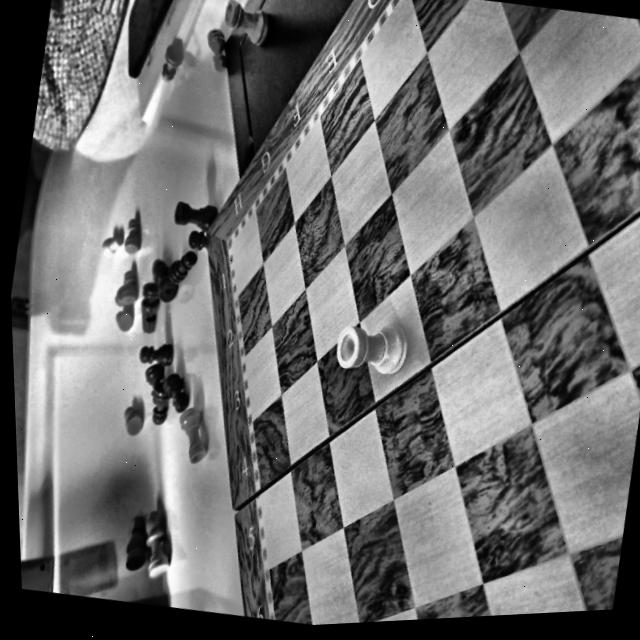white-rook: (324, 304, 420, 387)
